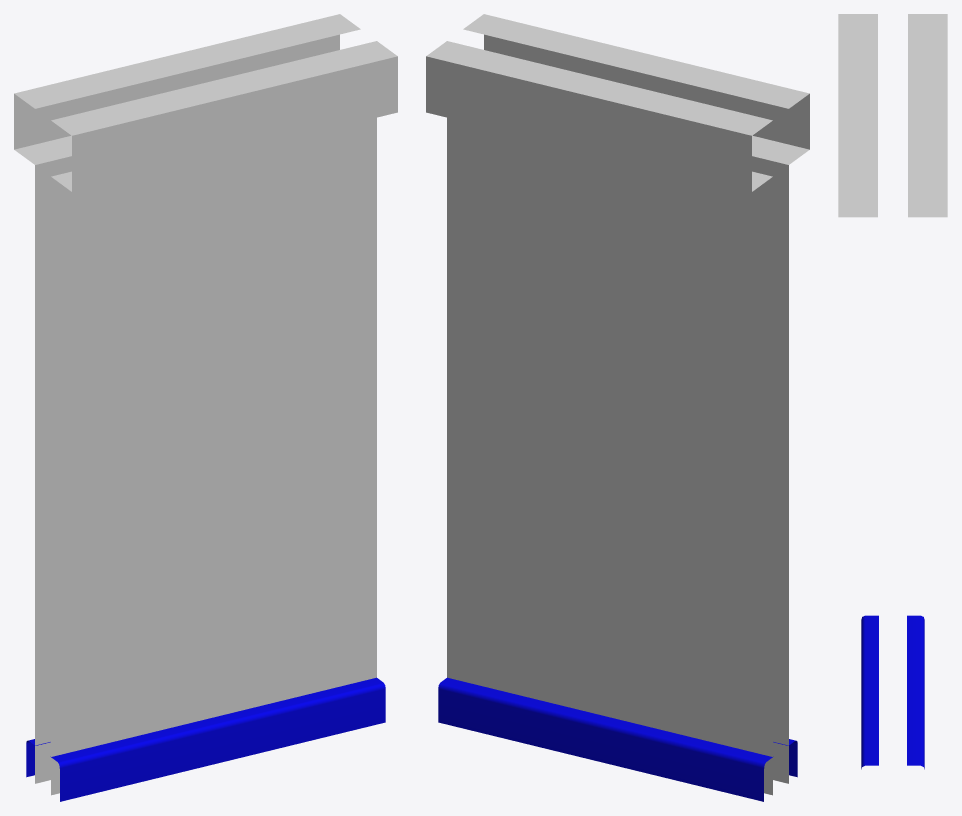
Rendered from SecuirtyWallWindowless.fbx.
The picture shows the model from 3 angles, left to right: view 1: azimuth 30°, elevation 25°; view 2: azimuth 150°, elevation 25°; view 3: azimuth 270°, elevation 25°; orthographic projection. The views are drawn at different scales.
Visible parts, largest first — view 1: Wall, Trim; view 2: Wall, Trim; view 3: Wall, Trim.
Part boxes in pixels (bbox=[...]): Wall: bbox=[14, 14, 397, 795]; Trim: bbox=[26, 677, 385, 801]; Wall: bbox=[426, 14, 809, 795]; Trim: bbox=[438, 677, 797, 801]; Wall: bbox=[838, 14, 947, 217]; Trim: bbox=[861, 615, 924, 769].
Bounding box in the file's own units: 6 × 11.87 × 1.84.
